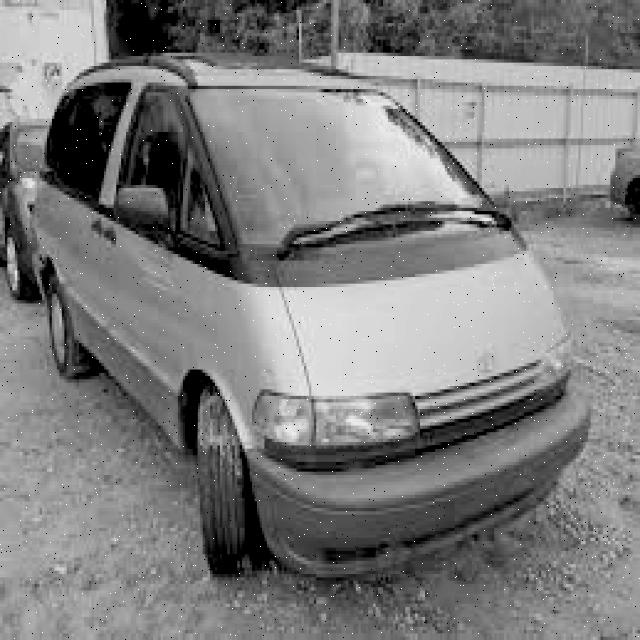Van: (0, 26, 615, 605)
